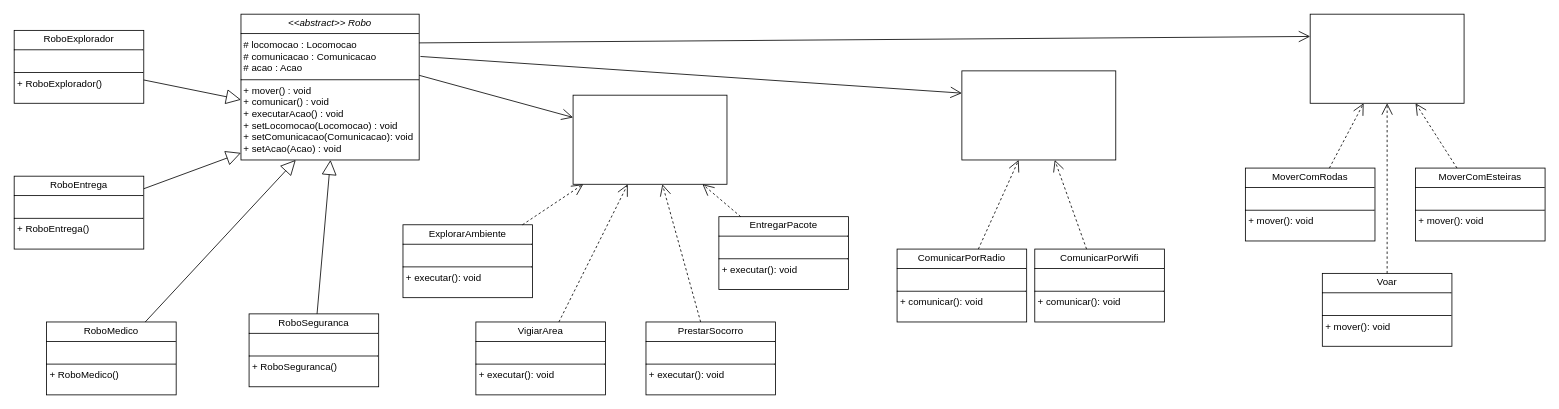
Image size: 1559x409. Some labels were removed from this diagram. The shapes that lost their labels are listed below. From the top down, each one's centre as x and y in pixels, then its label:
the point at 1386,58: <<Interface>> Locomocao + mover(): void
the point at 1038,115: <<Interface>> Comunicacao + comunicar(): void
the point at 649,139: <<Interface>> Acao + executar(): void
